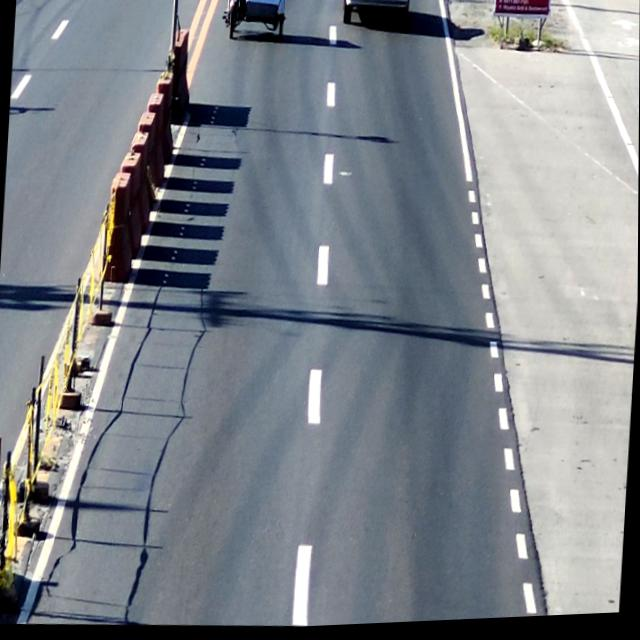Car: (341, 0, 413, 34)
Tricycle: (221, 0, 290, 43)
